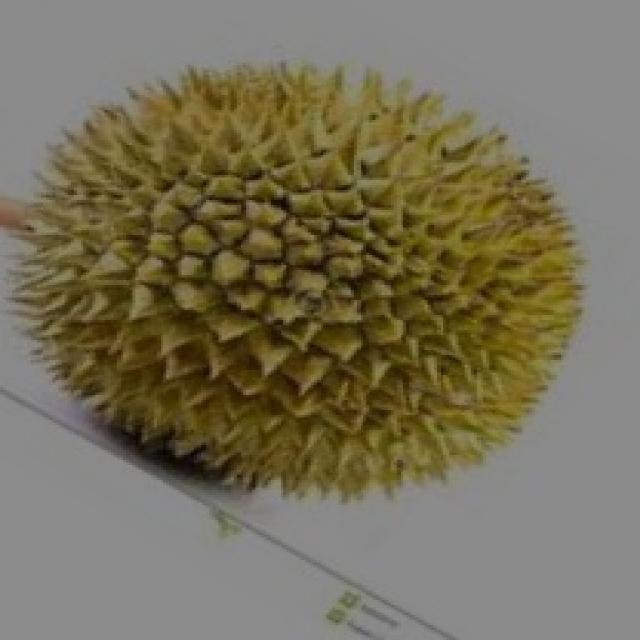fruit: (286, 127, 628, 555), (0, 175, 366, 565)
